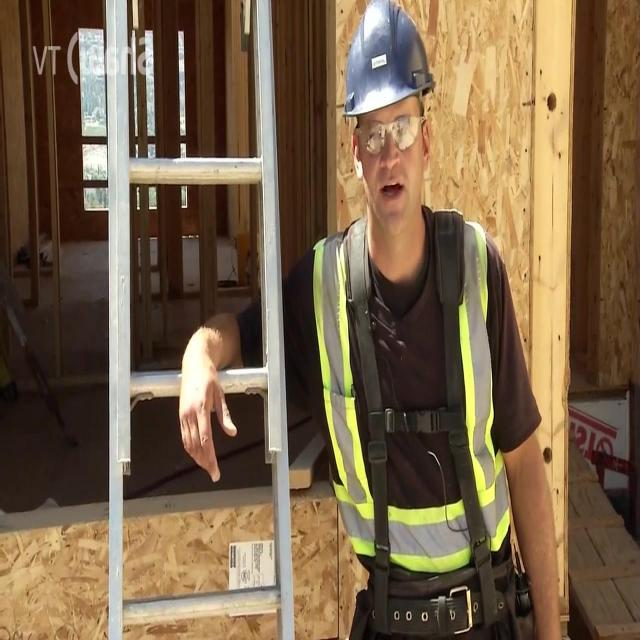Reflective-Jacket: (303, 212, 524, 594)
Safety-Helmet: (334, 0, 442, 131)
